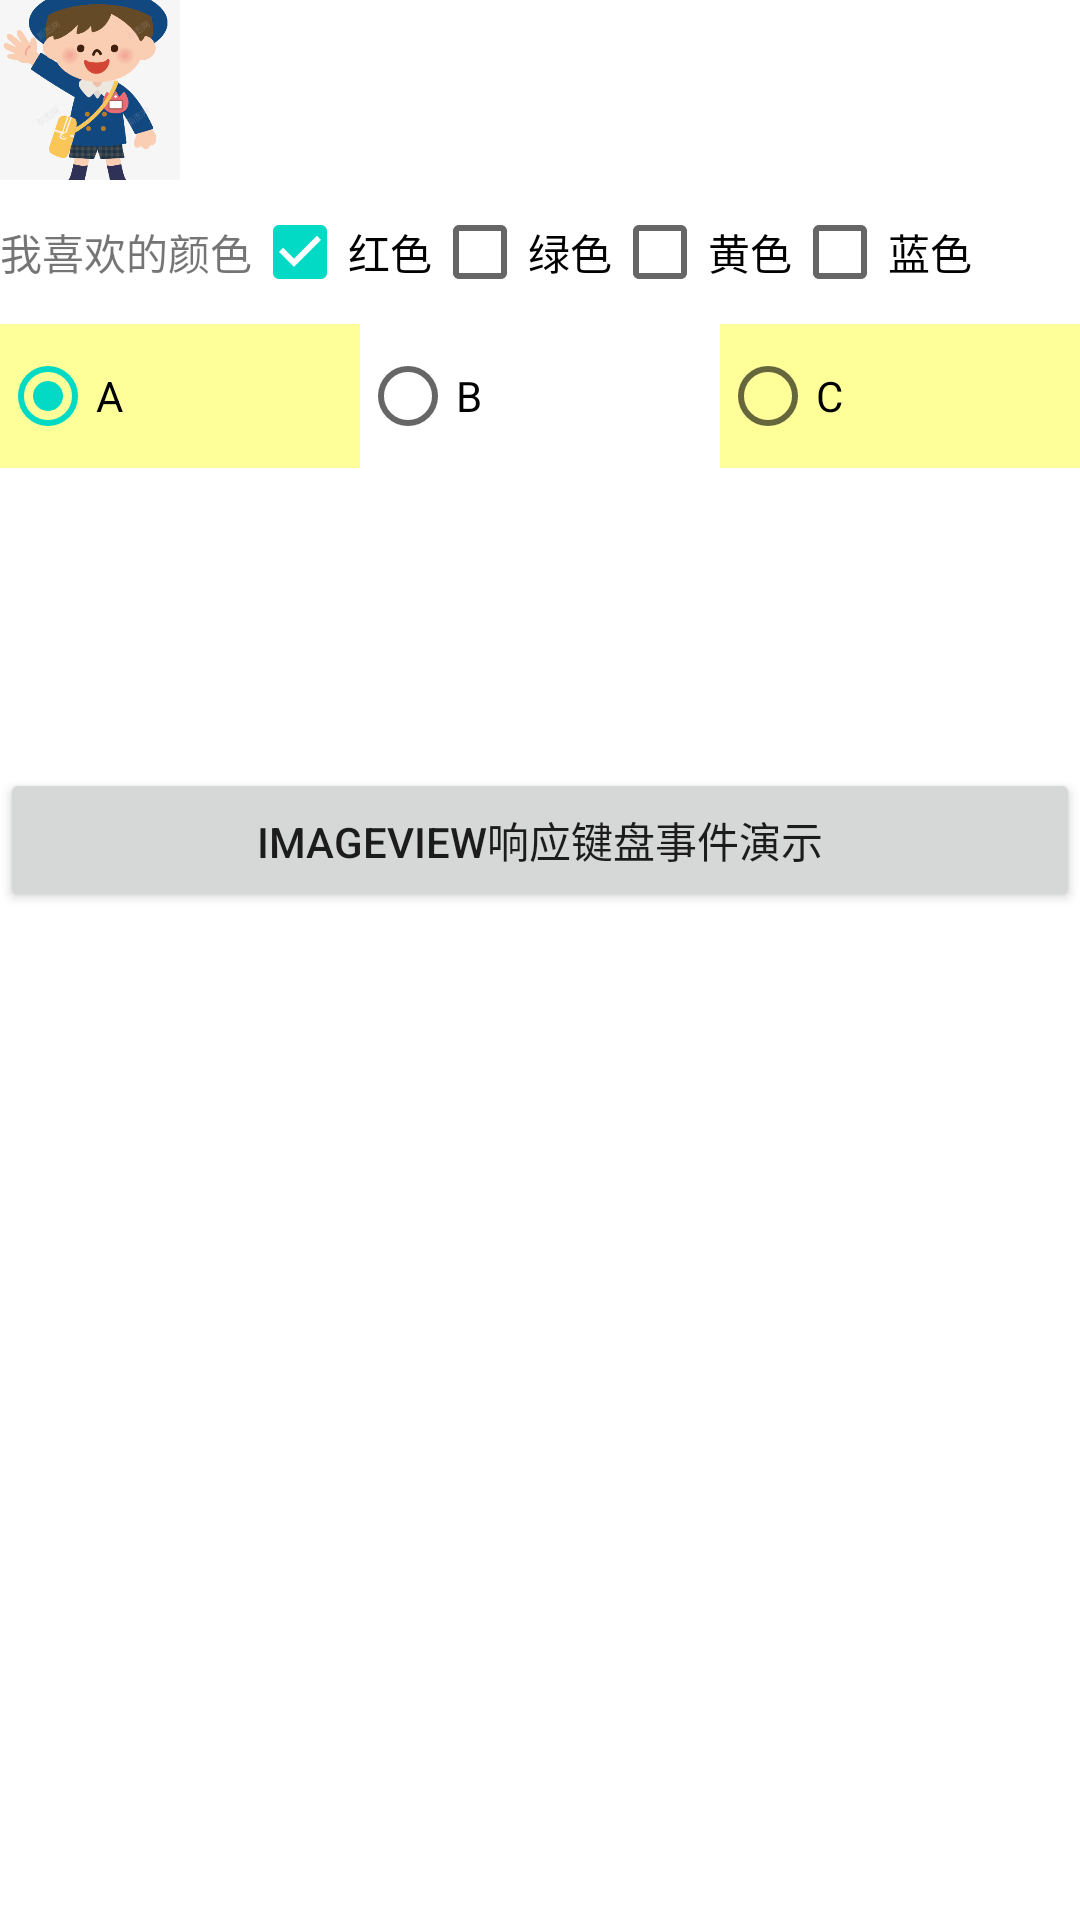

Icons on this 1080×1920 Android screen, each with its box as {"x1": x1, "y1": y1, "x2": x2, "y2": y2}:
people: {"x1": 3, "y1": 0, "x2": 168, "y2": 180}
